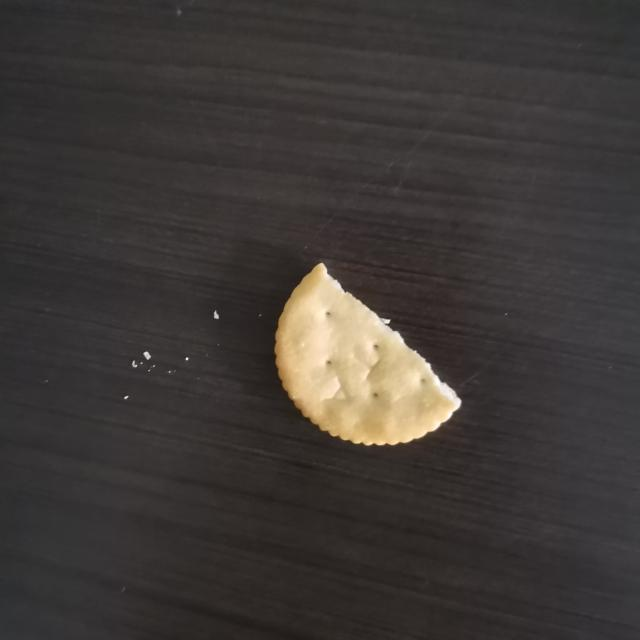Broken: (273, 261, 462, 447)
